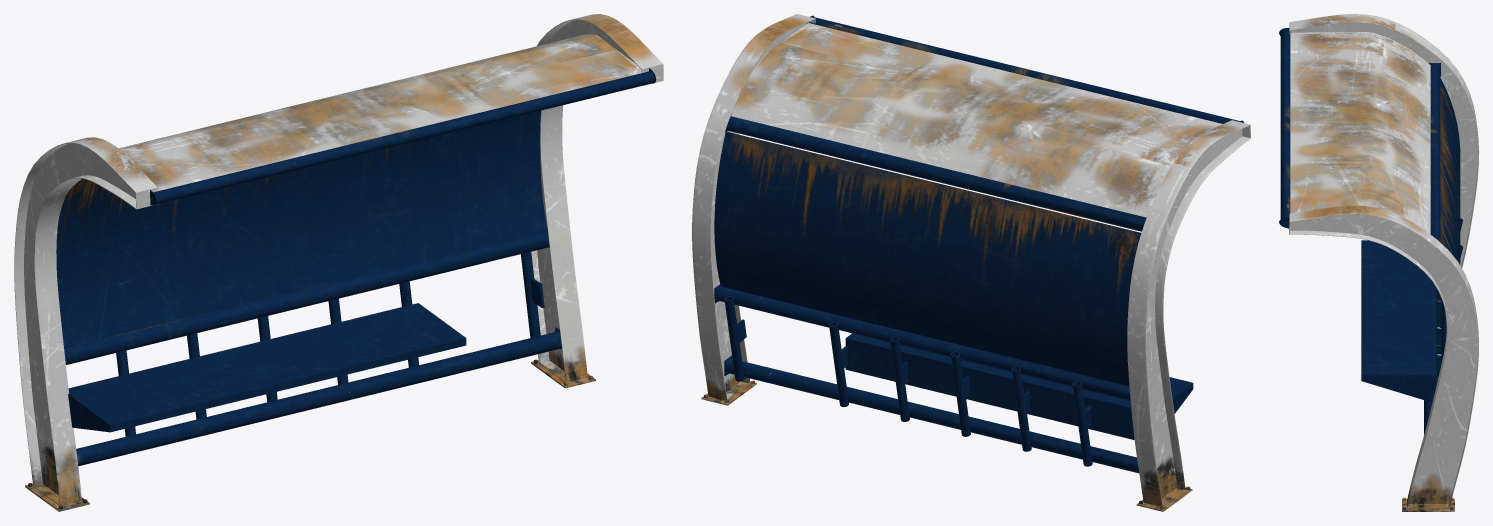
3 renders of one model, left to right at view 1: azimuth 30°, elevation 25°; view 2: azimuth 150°, elevation 25°; view 3: azimuth 270°, elevation 25°, orthographic. The views are drawn at different scales.
Visible parts, largest first — view 1: Plane.007_0; view 2: Plane.007_0; view 3: Plane.007_0.
Boxes of the visible parts, x1,y1,x2,y2 form: Plane.007_0: [14, 14, 663, 511]; Plane.007_0: [692, 14, 1250, 511]; Plane.007_0: [1279, 14, 1478, 511].
Bounding box in the file's own units: 1.87 × 1.27 × 0.7768.
Materials: 1 (1 with a texture image).
